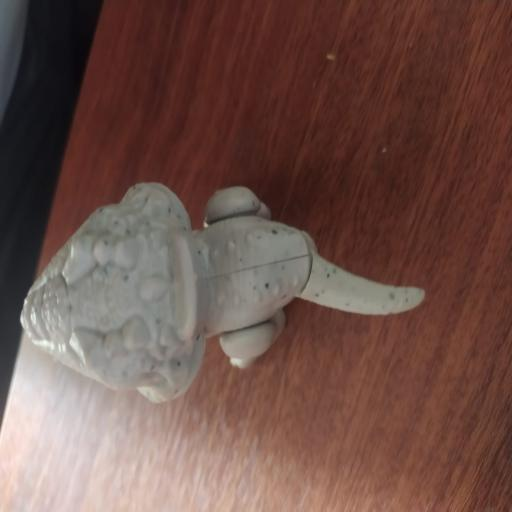Dinosaurio: (13, 175, 432, 413)
